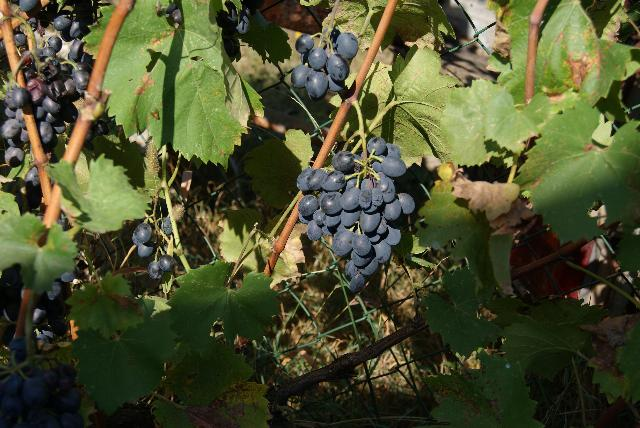grapes: (296, 136, 415, 291), (0, 30, 94, 168), (0, 364, 84, 428), (291, 29, 359, 101)
